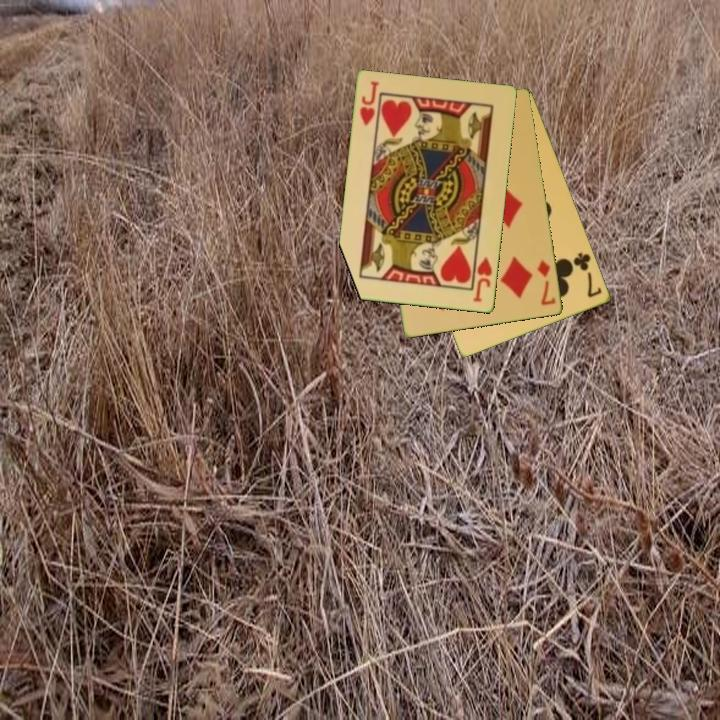7c: (570, 249, 605, 301)
7d: (534, 256, 559, 309)
Jh: (470, 249, 495, 305), (356, 78, 382, 129)
